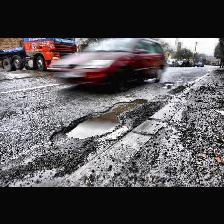pothole: (62, 96, 150, 138), (162, 80, 174, 86)
